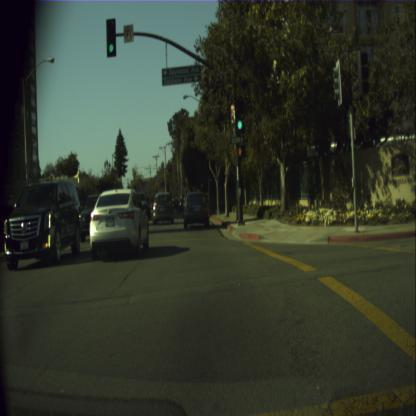Green: (106, 18, 116, 57), (235, 98, 244, 134)
